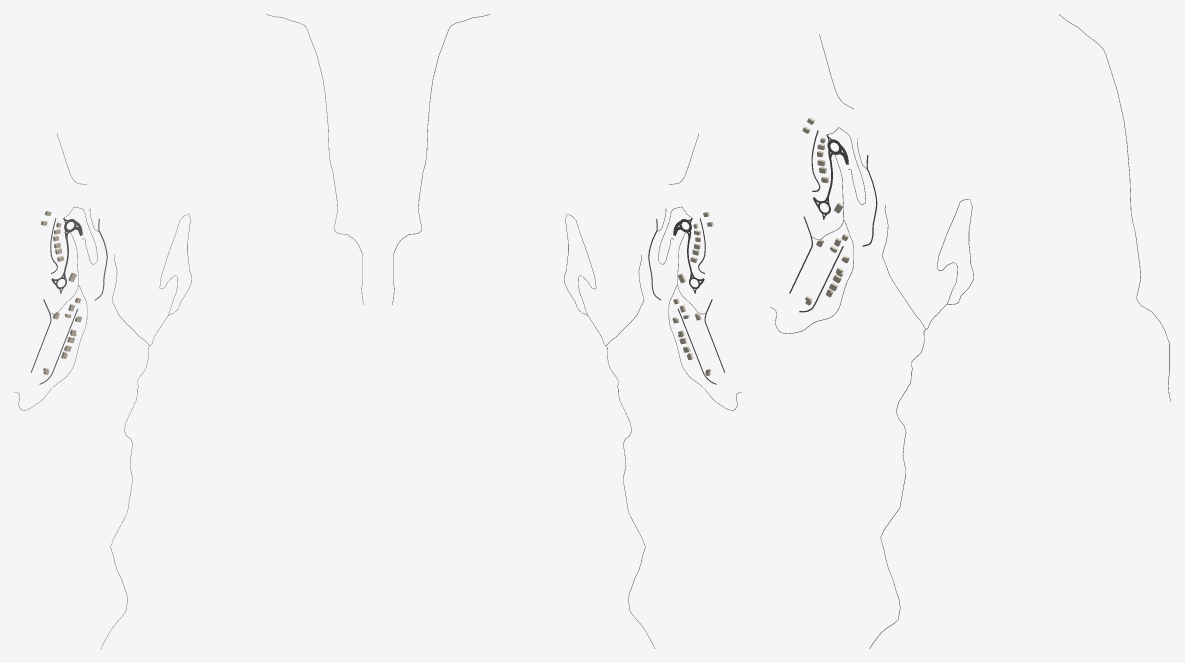
The model's file is historic-palestine-14_38_3555_3324.glb.
3 renders of one model, left to right at view 1: azimuth 30°, elevation 25°; view 2: azimuth 150°, elevation 25°; view 3: azimuth 330°, elevation 25°, orthographic. The views are drawn at different scales.
Parts seen in each view (by area): view 1: Road .025; view 2: Road .025; view 3: Road .025.
Boxes of the visible parts, x1,y1,x2,y2 form: Road .025: (101, 214, 191, 648); Road .025: (564, 214, 654, 648); Road .025: (869, 199, 973, 648).
Size of the model in its own units: 1070 by 1738 by 8.7.
